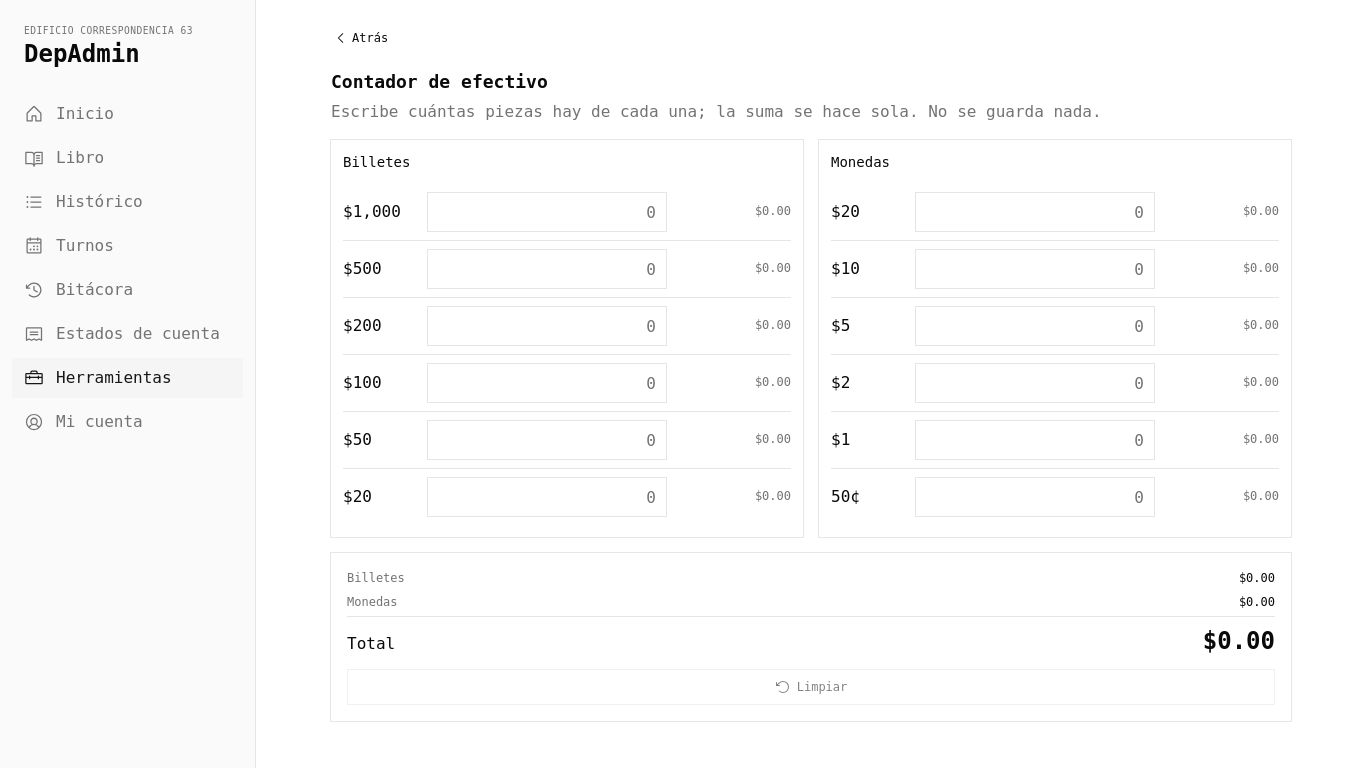
Test: tools › adds up the pieces as they are typed, and «Limpiar» starts over
The image size is (1366, 768).
expect the button "Limpiar" is disabled: met, box [347,669,1275,705]
Step 1. Type "3" into the field named "Billetes de $500" → (547, 269), box [427,249,667,289]
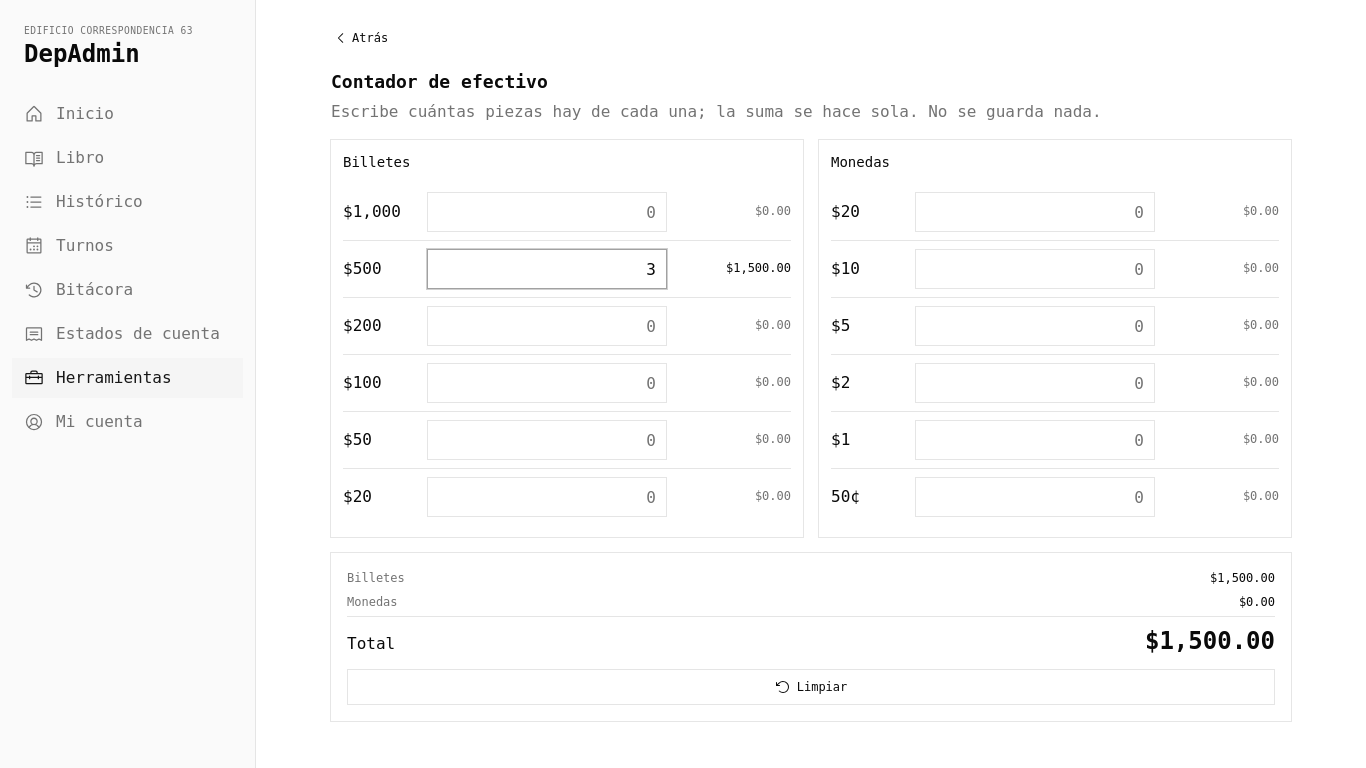
Step 2. Type "2" into the field named "Monedas de $20" → (1035, 212), box [915,192,1155,232]
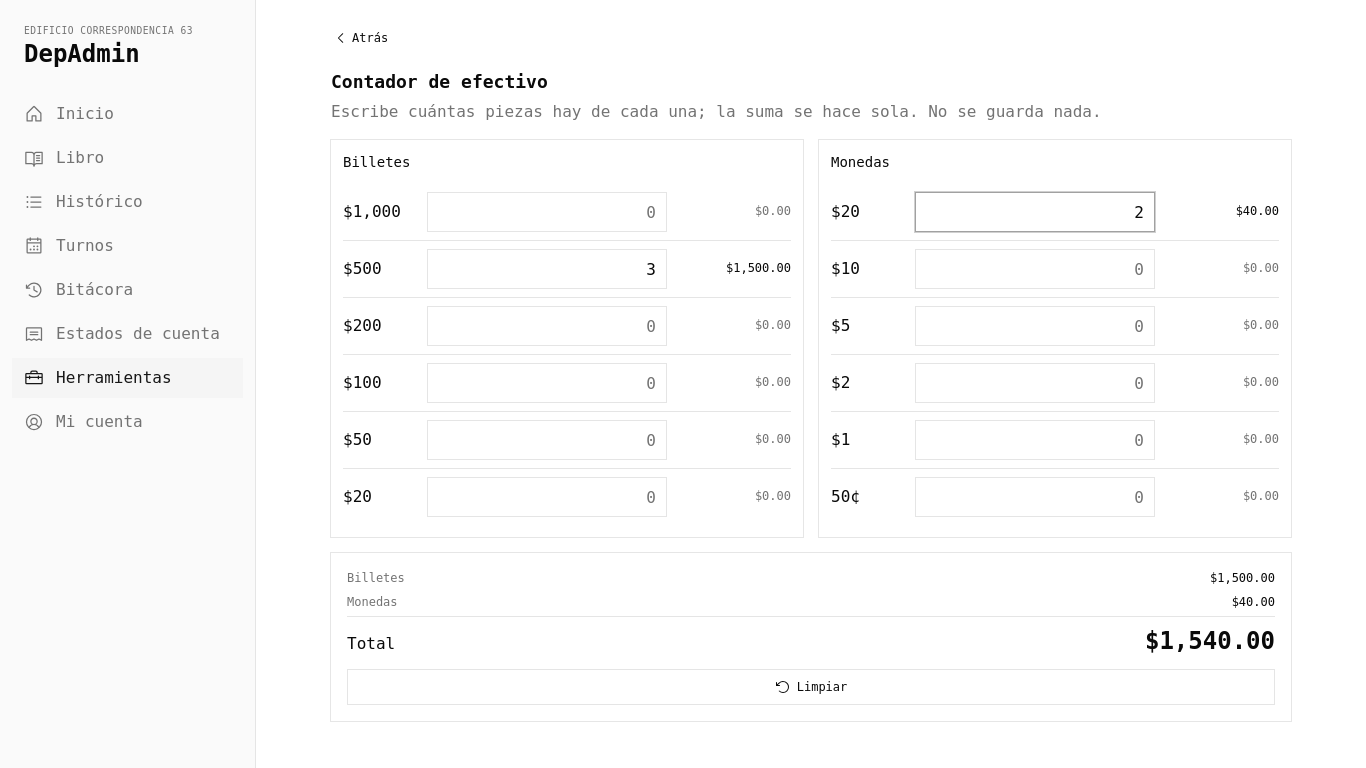
Only whole pieces: the point is dropped.
Step 3. Type "7." into the field named "Monedas de 50¢" → (1035, 497), box [915,477,1155,517]
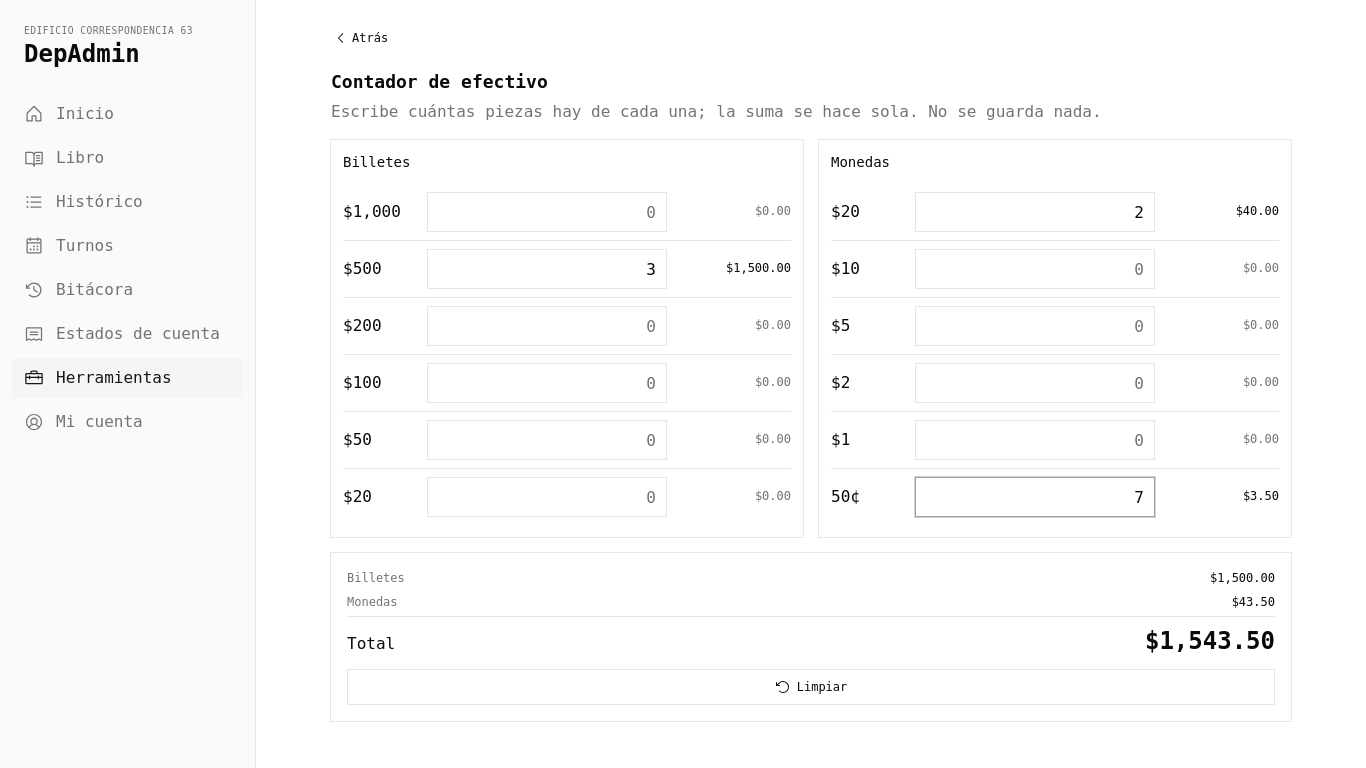
expect the text "$1,500.00" in the row of "$500" is shown: met, box [726,261,791,275]
expect the field named "Monedas de 50¢" holds "7": met, box [915,477,1155,517]
expect the text "$1,543.50" is shown: met, box [1145,625,1275,657]
Step 4. Click the button "Limpiar" → (811, 687), box [347,669,1275,705]
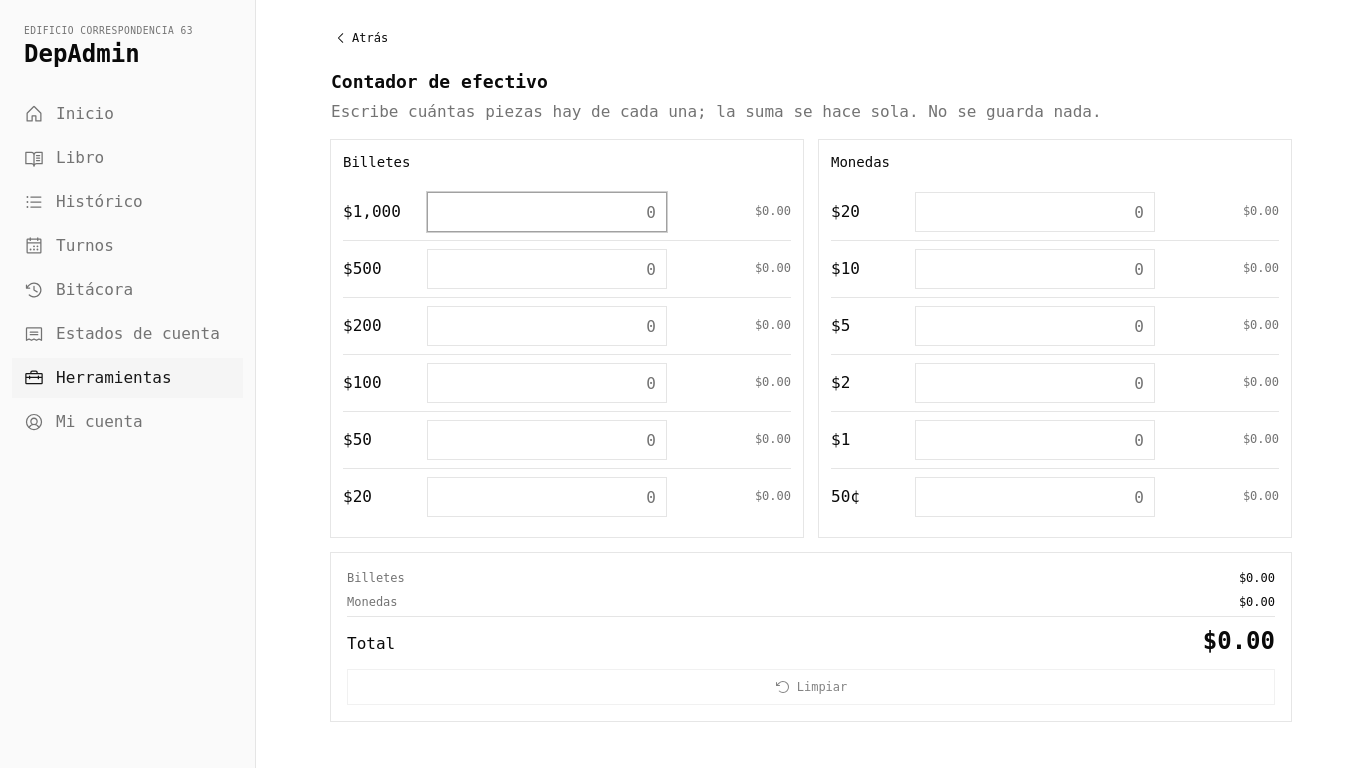
expect the text "$0.00" in the row of "Total" is shown: met, box [1203,627,1275,655]
expect the field named "Billetes de $500" is empty: met, box [427,249,667,289]
